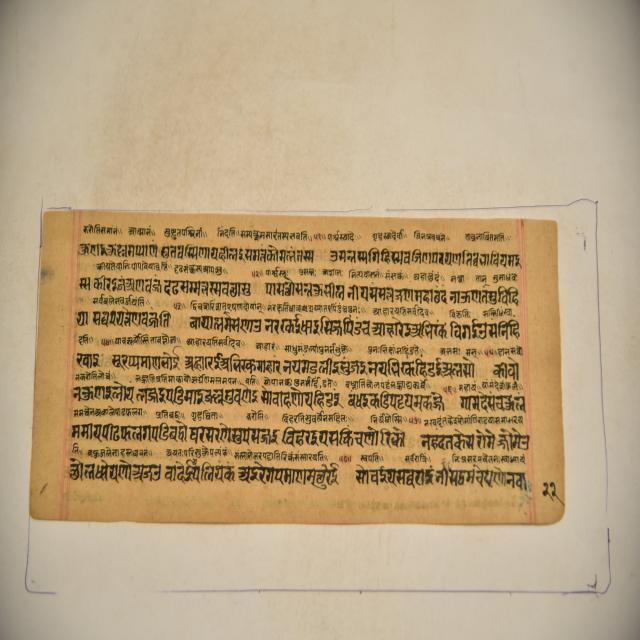text_paragraph: (26, 205, 566, 524)
